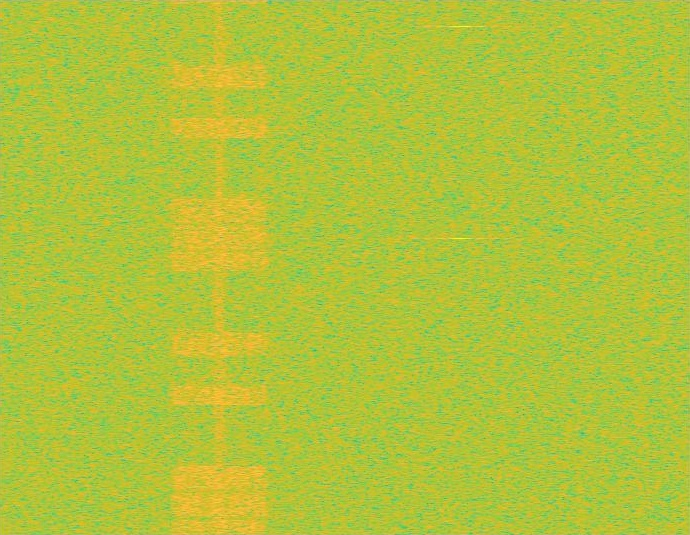DSSS: (212, 0, 226, 534)
LTE: (168, 0, 271, 534)
Radar: (454, 0, 468, 534)
